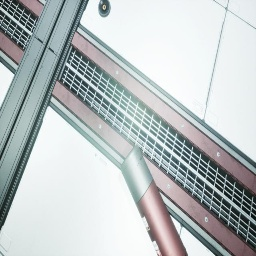NitrogenTank ,: (121, 144, 188, 256)
